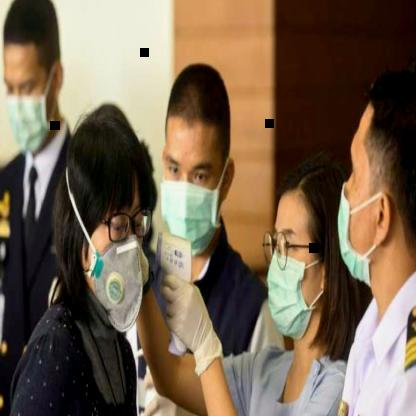mask: (66, 89, 165, 341), (334, 69, 416, 304), (158, 57, 243, 259), (260, 160, 342, 345), (0, 4, 68, 159)
